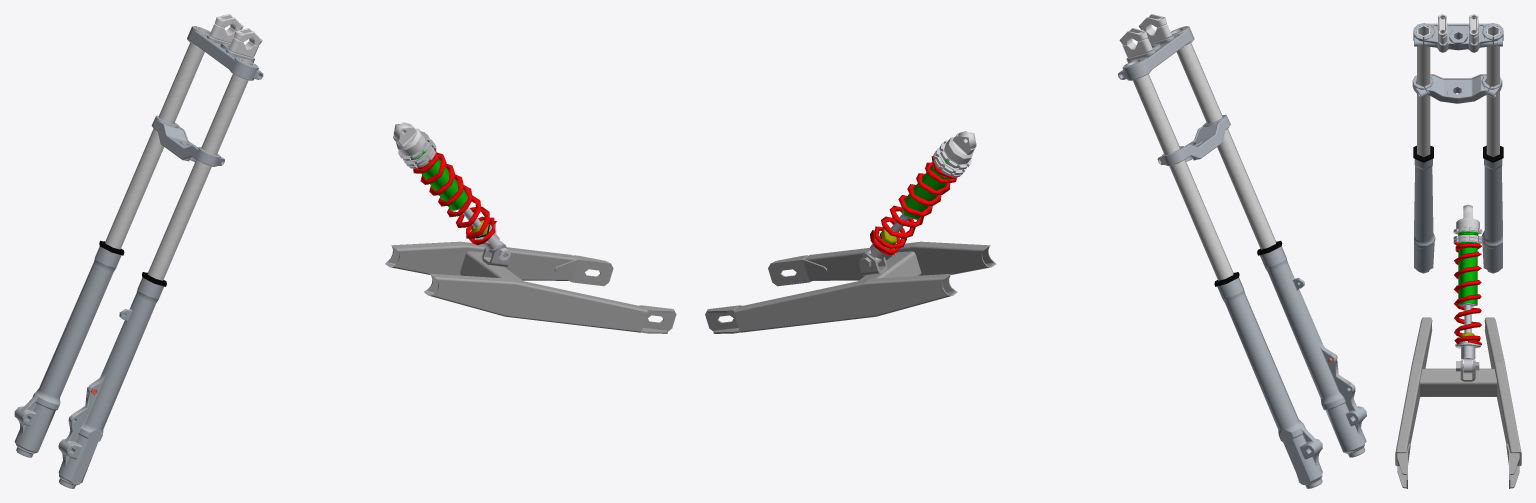
File: Suspension.fbx
The picture shows the model from 3 angles, left to right: view 1: azimuth 30°, elevation 25°; view 2: azimuth 150°, elevation 25°; view 3: azimuth 270°, elevation 25°; orthographic projection. The views are drawn at different scales.
Visible parts, largest first — view 1: Suspension BF Part 14, Suspension Part 3, Suspension Part 4, Suspension BF Part 13, Suspension BF Part 1, Suspension BF Part 2, Suspension Part 20, Suspension Part 56, Suspension Part 55, Suspension BF Part 12, Suspension Part 57, Suspension Part 21 (+2 smaller); view 2: Suspension BF Part 13, Suspension Part 3, Suspension Part 4, Suspension BF Part 14, Suspension BF Part 2, Suspension BF Part 1, Suspension Part 20, Suspension Part 56, Suspension Part 55, Suspension BF Part 15, Suspension Part 57, Suspension Part 21 (+2 smaller); view 3: Suspension Part 3, Suspension Part 4, Suspension Part 57, Suspension BF Part 14, Suspension BF Part 13, Suspension Part 55, Suspension Part 56, Suspension BF Part 2, Suspension BF Part 1, Suspension Part 20, Suspension Part 21, Suspesion Part 23 (+8 smaller).
Boxes of the visible parts, x1=… form: Suspension BF Part 14: x1=424, y1=273, x2=647, y2=332; Suspension Part 3: x1=58, y1=277, x2=164, y2=488; Suspension Part 4: x1=14, y1=246, x2=121, y2=457; Suspension BF Part 13: x1=385, y1=241, x2=576, y2=280; Suspension BF Part 1: x1=147, y1=59, x2=254, y2=280; Suspension BF Part 2: x1=105, y1=27, x2=210, y2=249; Suspension Part 20: x1=413, y1=150, x2=496, y2=244; Suspension Part 56: x1=187, y1=26, x2=263, y2=80; Suspension Part 55: x1=151, y1=115, x2=224, y2=166; Suspension BF Part 12: x1=554, y1=255, x2=613, y2=286; Suspension Part 57: x1=460, y1=251, x2=522, y2=280; Suspension Part 21: x1=411, y1=149, x2=467, y2=210; Suspension BF Part 13: x1=734, y1=273, x2=957, y2=332; Suspension Part 3: x1=1260, y1=246, x2=1366, y2=457; Suspension Part 4: x1=1217, y1=278, x2=1322, y2=488; Suspension BF Part 14: x1=804, y1=241, x2=995, y2=280; Suspension BF Part 2: x1=1127, y1=59, x2=1233, y2=280; Suspension BF Part 1: x1=1171, y1=28, x2=1276, y2=249; Suspension Part 20: x1=870, y1=156, x2=956, y2=254; Suspension Part 56: x1=1118, y1=26, x2=1194, y2=80; Suspension Part 55: x1=1157, y1=114, x2=1230, y2=165; Suspension BF Part 15: x1=768, y1=255, x2=827, y2=286; Suspension Part 57: x1=858, y1=251, x2=921, y2=280; Suspension Part 21: x1=903, y1=160, x2=958, y2=219; Suspension Part 3: x1=1414, y1=159, x2=1435, y2=273; Suspension Part 4: x1=1481, y1=159, x2=1502, y2=273; Suspension Part 57: x1=1419, y1=368, x2=1497, y2=396; Suspension BF Part 14: x1=1395, y1=317, x2=1432, y2=465; Suspension BF Part 13: x1=1484, y1=317, x2=1521, y2=465; Suspension Part 55: x1=1412, y1=74, x2=1502, y2=103; Suspension Part 56: x1=1413, y1=23, x2=1503, y2=52; Suspension BF Part 2: x1=1486, y1=26, x2=1499, y2=157; Suspension BF Part 1: x1=1417, y1=26, x2=1430, y2=157; Suspension Part 20: x1=1454, y1=242, x2=1481, y2=344; Suspension Part 21: x1=1457, y1=231, x2=1478, y2=304; Suspesion Part 23: x1=1461, y1=305, x2=1475, y2=373.
Size of the model in its own units: 596 by 379 by 132.
